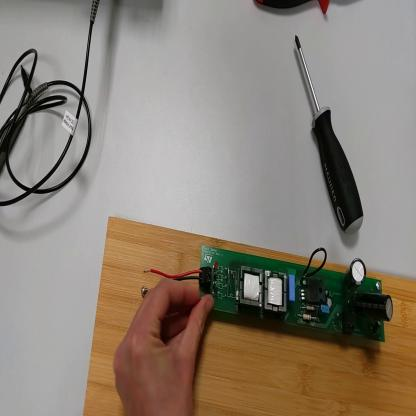hand: (115, 277, 214, 414)
high voltage board: (145, 244, 395, 344)
oscilloscope probe tip: (2, 75, 52, 176)
pliers: (254, 2, 332, 15)
screwdriver-: (294, 32, 367, 237)
working area: (86, 217, 416, 416)
